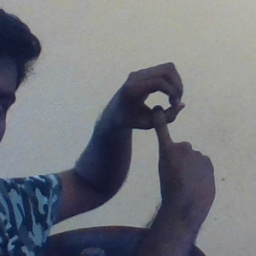Q: (101, 58, 216, 186)
